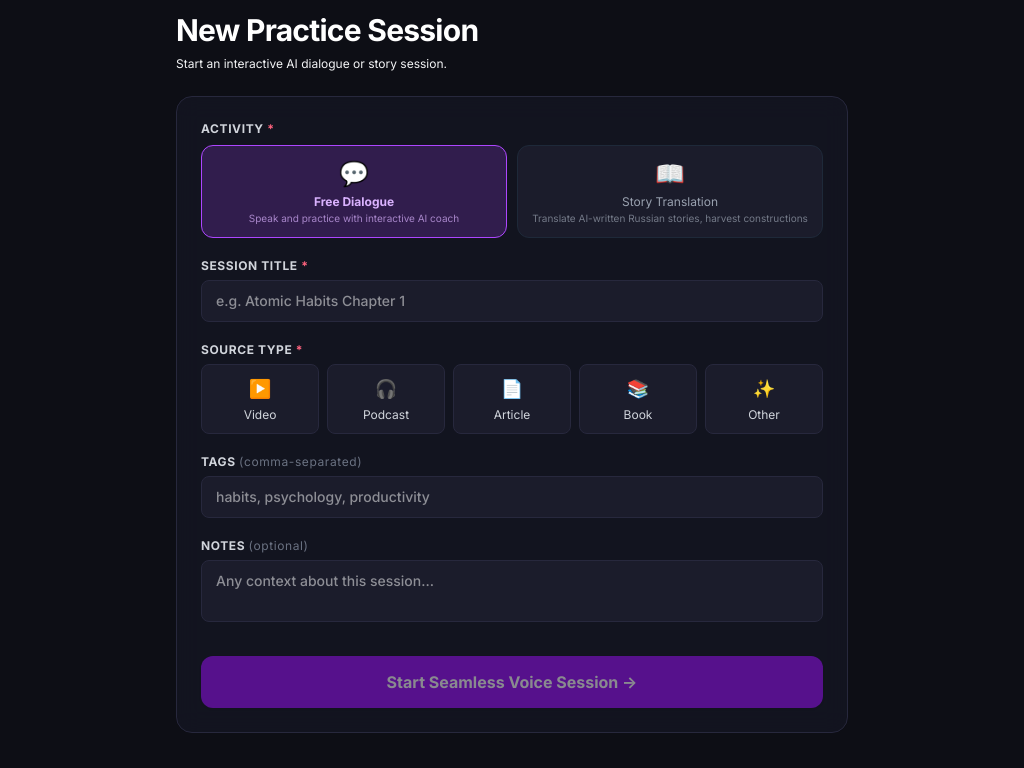
Session Wizard Component › completes dialogue session directly without an import step
Type "Direct Session" into the field with placeholder "e.g. Atomic Habits Chapter 1".
click(512, 300); type("Direct Session")  # box left=201, top=280, right=823, bottom=322
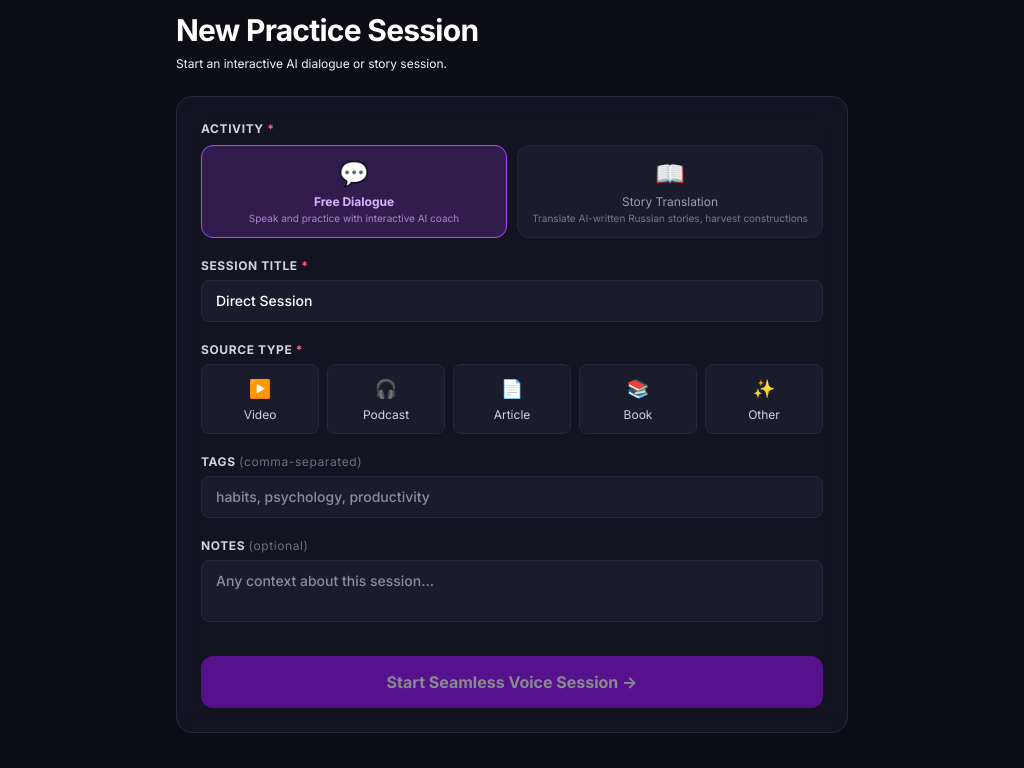
Click the text "Video".
click(260, 414)  # box left=244, top=406, right=276, bottom=422
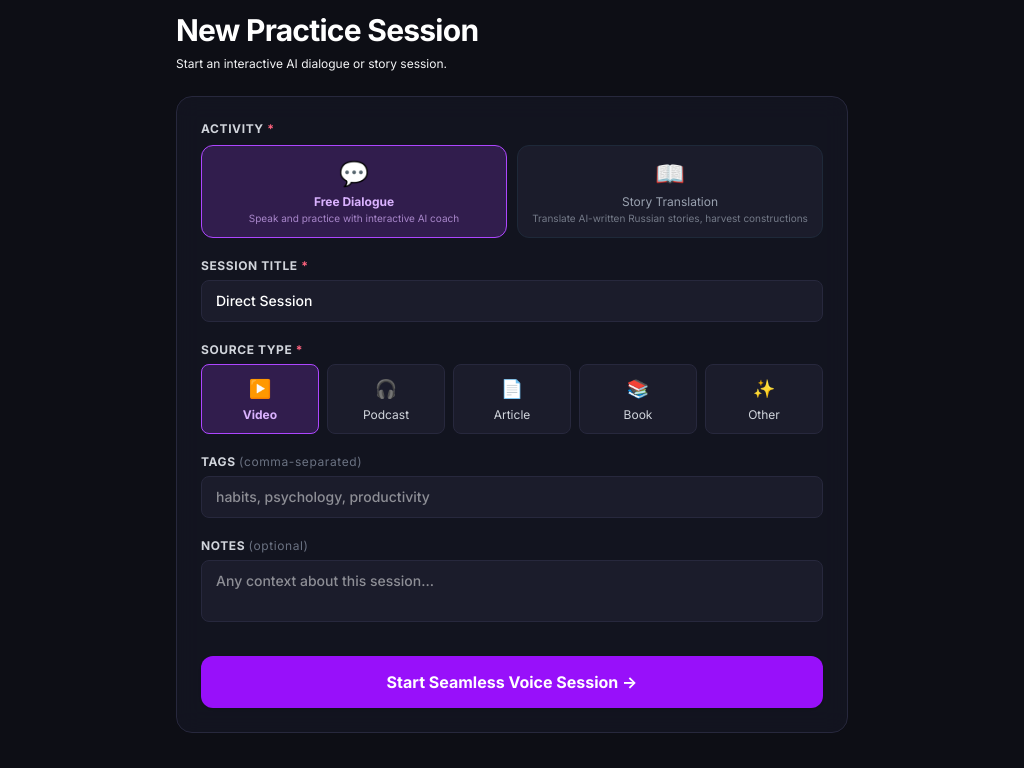
Click the button "Start Seamless Voice Session →".
click(512, 682)  # box left=201, top=656, right=823, bottom=708
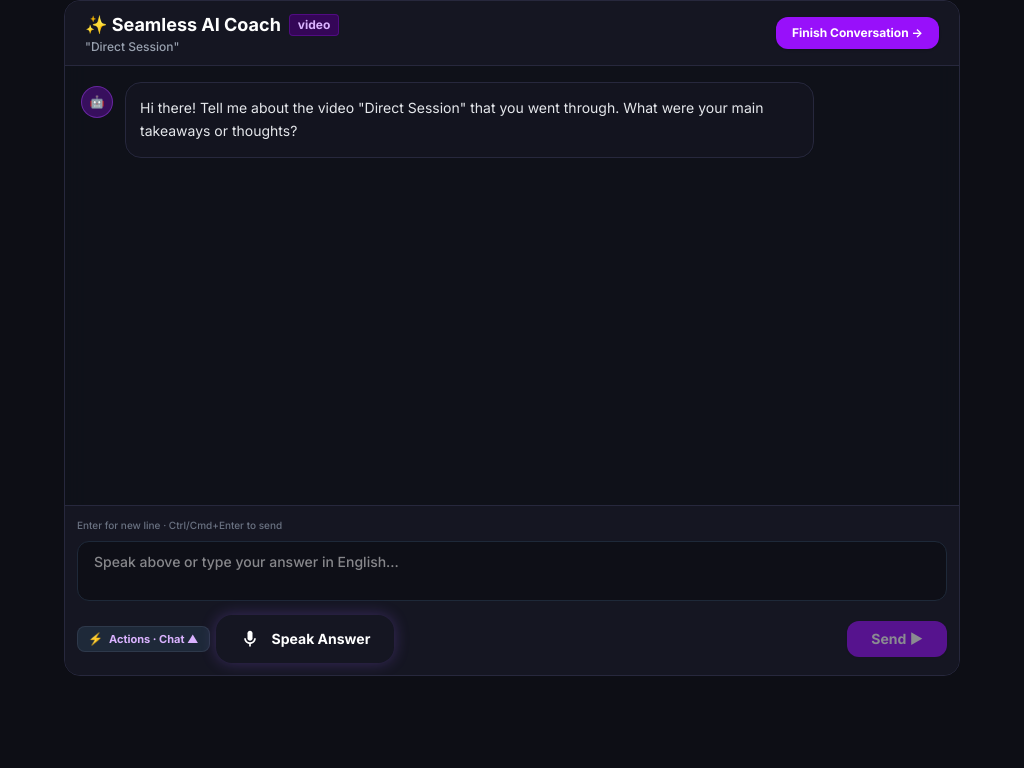
Expected: the text "✨ Seamless AI Coach" is shown, left=85, top=11, right=281, bottom=39
